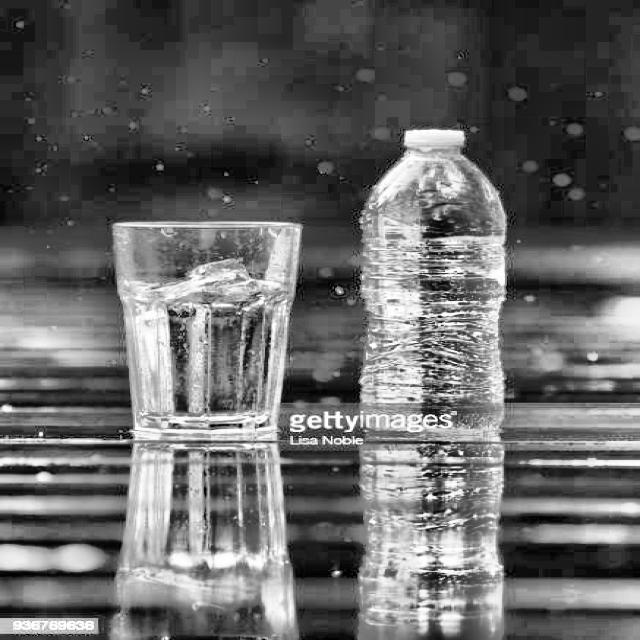waterbottle: (348, 112, 531, 474)
